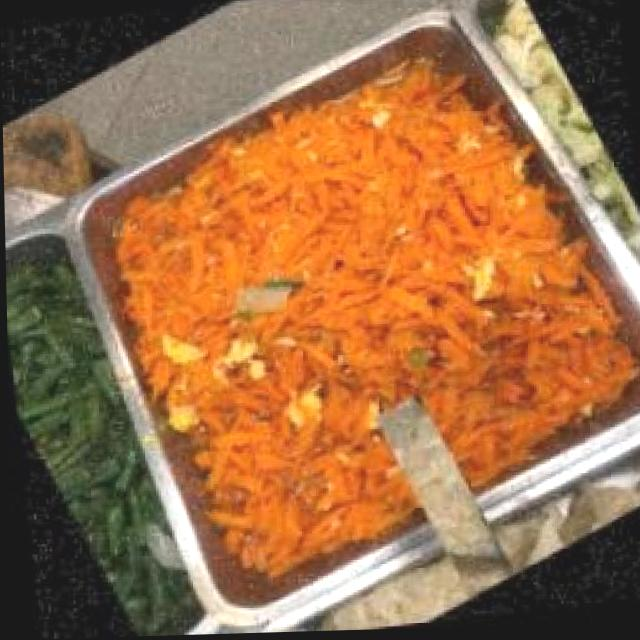carrot_eggs: (66, 20, 640, 606)
fried_dumplings: (331, 419, 587, 632)
